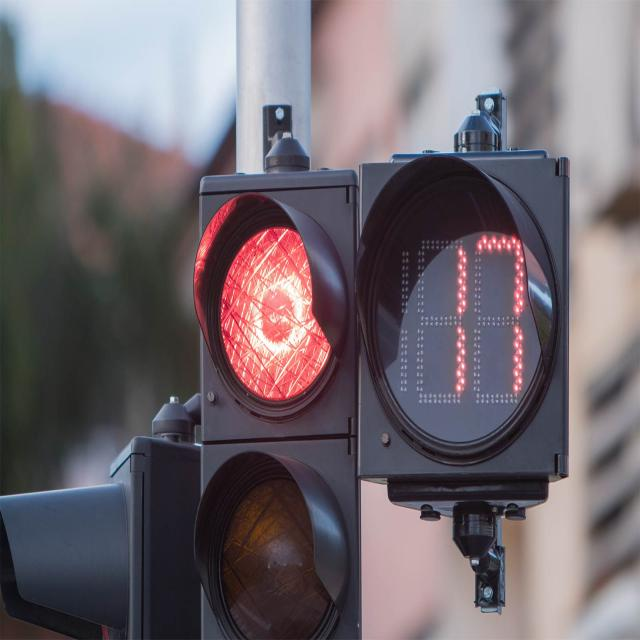red: (193, 190, 345, 421)
